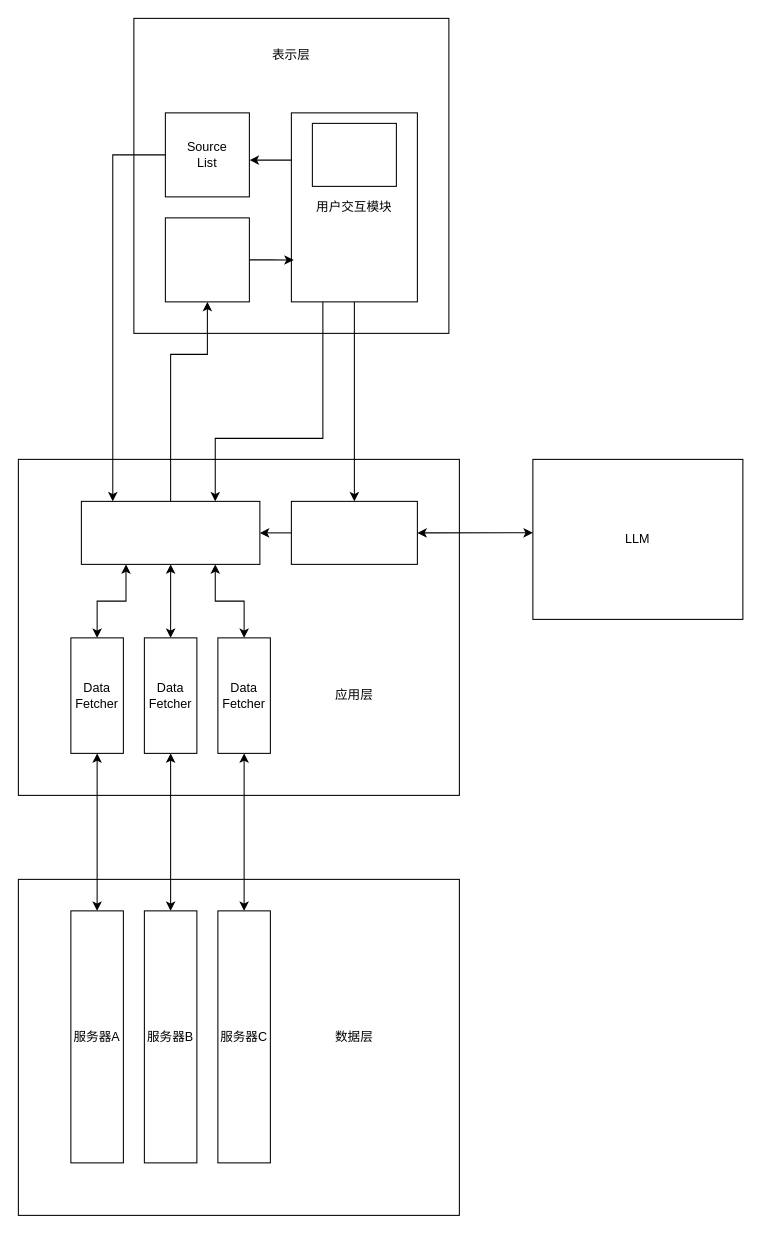
This 761x1234 diagram has some shape labels left out. Here are the shapes that lost their labels. From the top down, the centre of each, then its label:
At point 353,154: "AI配置模块".
At point 206,259: "List".
At point 170,532: "核心层".
At point 353,532: "LLM交互层".
